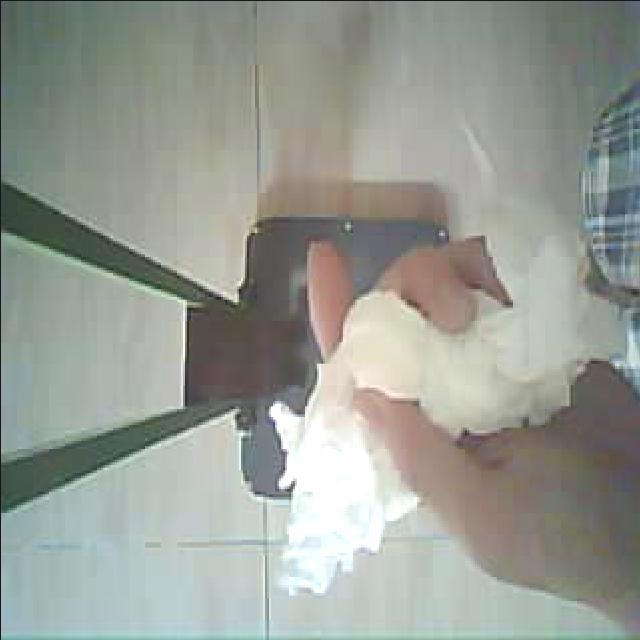Paper: (216, 167, 634, 611)
